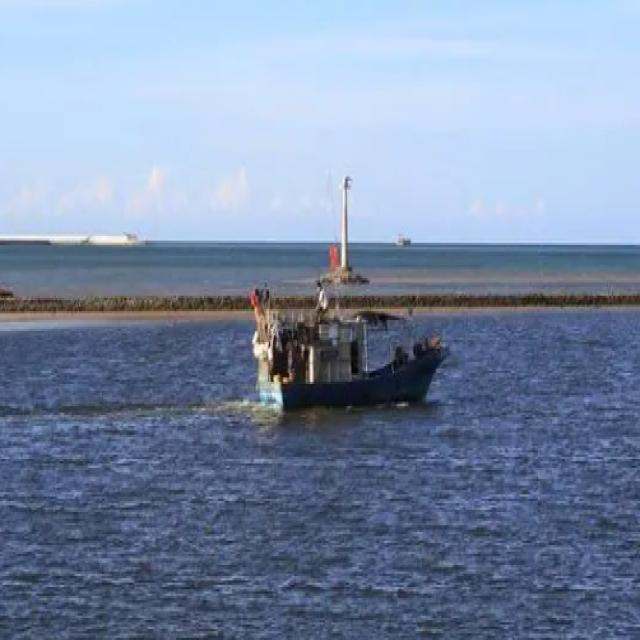fishing boat: (247, 284, 454, 414)
